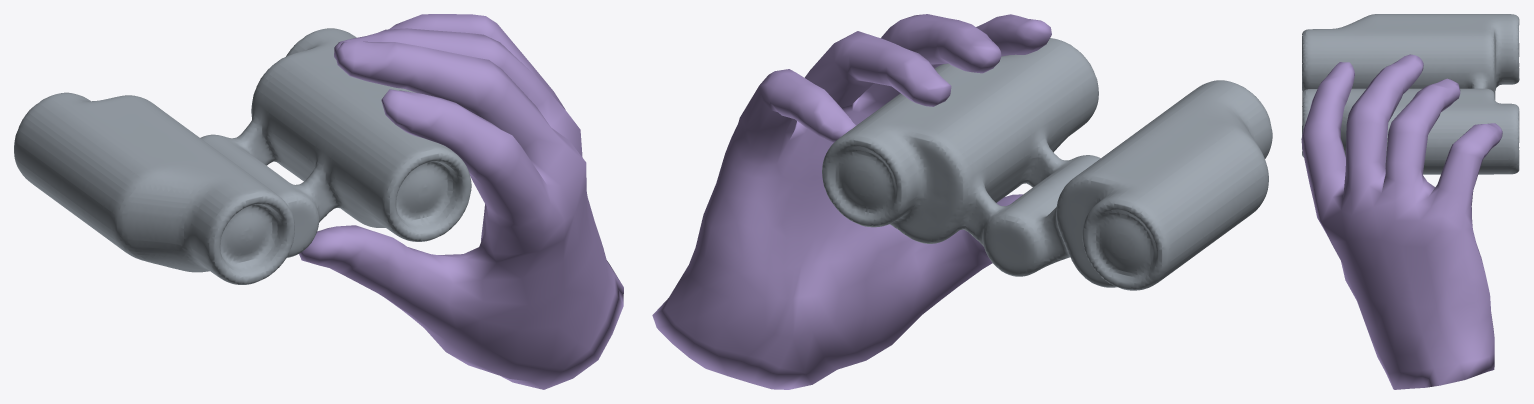
Rendered from ours_3.glb.
The picture shows the model from 3 angles, left to right: view 1: azimuth 30°, elevation 25°; view 2: azimuth 150°, elevation 25°; view 3: azimuth 270°, elevation 25°; orthographic projection. The views are drawn at different scales.
Size of the model in its own units: 0.2251 by 0.1486 by 0.1092.
